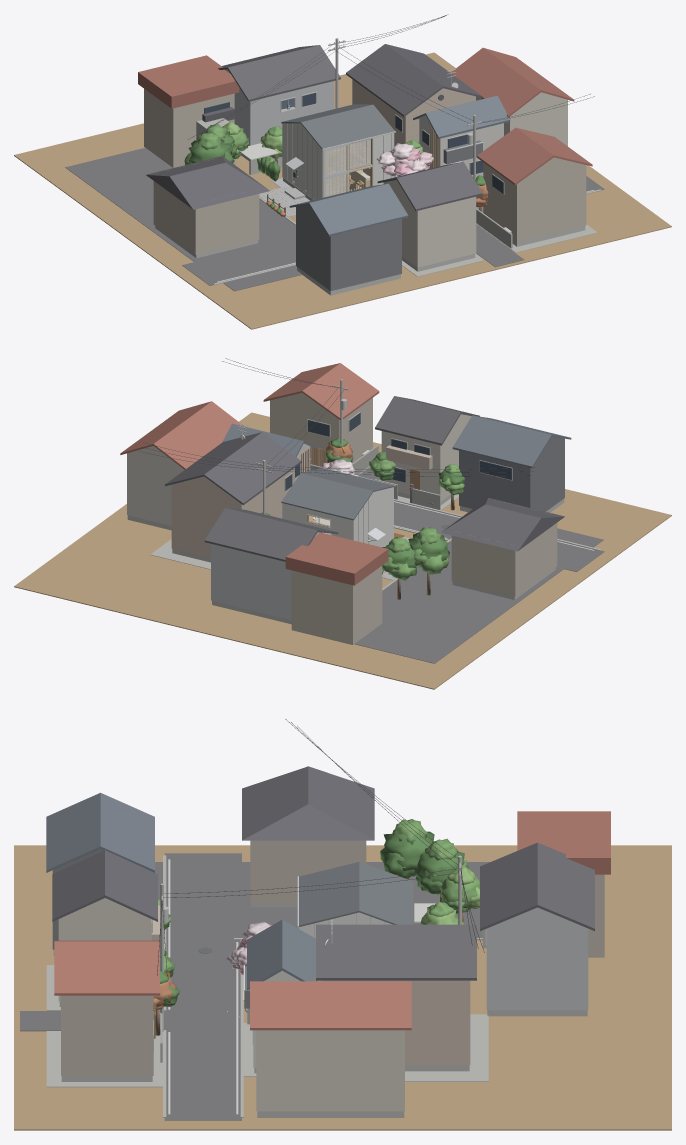
File: 9_tsubo_house_tabletop.glb
3 renders of one model, top to bottom at view 1: azimuth 30°, elevation 25°; view 2: azimuth 150°, elevation 25°; view 3: azimuth 270°, elevation 25°, orthographic. The views are drawn at different scales.
Parts seen in each view (by area): view 1: Ctx_Site_Sandy_Ground, Ctx_Road_LeftAsphalt, Ctx_South_House2_Body, Ctx_South_House3_Body, Ctx_House_Left_Body, Ctx_House_Right_Roof, Ctx_South_House1_Body, Ctx_House_RearCenter_Roof, Ctx_SE_House2_Roof, Ctx_House_Left_Roof, Ctx_House_RearLeft_Roof, Ctx_House_RearLeft_Body (+22 smaller); view 2: Ctx_Site_Sandy_Ground, Ctx_Road_LeftAsphalt, Ctx_House_RearLeft_Body, Ctx_House_Left_Body, Ctx_South_House3_Body, Ctx_House_Right_Roof, Ctx_House_RearCenter_Body, Ctx_House_Right_Body, Ctx_House_RearCenter_Roof, Ctx_South_House2_Body, Ctx_SE_House2_Roof, Ctx_House_Left_Roof (+13 smaller); view 3: Ctx_Site_Sandy_Ground, Ctx_Road_SouthMain, Ctx_SE_House2_Body, Ctx_House_Right_Roof, Ctx_House_RearCenter_Body, Ctx_House_Left_Roof, Ctx_Road_LeftAsphalt, Ctx_SE_House2_Roof, Ctx_South_House2_Body, Ctx_House_RearCenter_Roof, Ctx_South_House3_Roof, Ctx_South_House2_Roof (+17 smaller).
Part boxes in pixels (x1=…): Ctx_Site_Sandy_Ground: x1=14, y1=52, x2=671, y2=329; Ctx_Road_LeftAsphalt: x1=65, y1=147, x2=302, y2=291; Ctx_South_House2_Body: x1=483, y1=157, x2=586, y2=242; Ctx_South_House3_Body: x1=296, y1=205, x2=401, y2=291; Ctx_House_Left_Body: x1=153, y1=181, x2=259, y2=254; Ctx_House_Right_Roof: x1=346, y1=44, x2=482, y2=116; Ctx_South_House1_Body: x1=384, y1=180, x2=476, y2=267; Ctx_House_RearCenter_Roof: x1=218, y1=45, x2=340, y2=101; Ctx_SE_House2_Roof: x1=450, y1=47, x2=574, y2=117; Ctx_House_Left_Roof: x1=146, y1=156, x2=269, y2=209; Ctx_House_RearLeft_Roof: x1=138, y1=55, x2=239, y2=108; Ctx_House_RearLeft_Body: x1=144, y1=89, x2=234, y2=167; Ctx_Site_Sandy_Ground: x1=14, y1=412, x2=671, y2=689; Ctx_Road_LeftAsphalt: x1=354, y1=528, x2=603, y2=663; Ctx_House_RearLeft_Body: x1=291, y1=566, x2=382, y2=644; Ctx_House_Left_Body: x1=451, y1=523, x2=557, y2=596; Ctx_South_House3_Body: x1=459, y1=436, x2=564, y2=511; Ctx_House_Right_Roof: x1=165, y1=432, x2=301, y2=505; Ctx_House_RearCenter_Body: x1=211, y1=532, x2=319, y2=619; Ctx_House_Right_Body: x1=171, y1=468, x2=294, y2=557; Ctx_House_RearCenter_Roof: x1=204, y1=508, x2=338, y2=561; Ctx_South_House2_Body: x1=270, y1=393, x2=372, y2=466; Ctx_SE_House2_Roof: x1=120, y1=401, x2=244, y2=469; Ctx_House_Left_Roof: x1=441, y1=498, x2=564, y2=551; Ctx_Site_Sandy_Ground: x1=14, y1=845, x2=671, y2=1130; Ctx_Road_SouthMain: x1=164, y1=853, x2=241, y2=1120; Ctx_SE_House2_Body: x1=256, y1=1030, x2=404, y2=1111; Ctx_House_Right_Roof: x1=316, y1=924, x2=476, y2=980; Ctx_House_RearCenter_Body: x1=493, y1=907, x2=588, y2=1010; Ctx_House_Left_Roof: x1=242, y1=766, x2=374, y2=840; Ctx_Road_LeftAsphalt: x1=155, y1=862, x2=489, y2=938; Ctx_SE_House2_Roof: x1=250, y1=981, x2=411, y2=1030; Ctx_South_House2_Body: x1=61, y1=995, x2=153, y2=1075; Ctx_House_RearCenter_Roof: x1=480, y1=842, x2=594, y2=931; Ctx_South_House3_Roof: x1=46, y1=792, x2=154, y2=872; Ctx_South_House2_Roof: x1=54, y1=940, x2=159, y2=995.
Size of what is drawn, in the model's own units: 0.66 by 0.1696 by 0.646.
